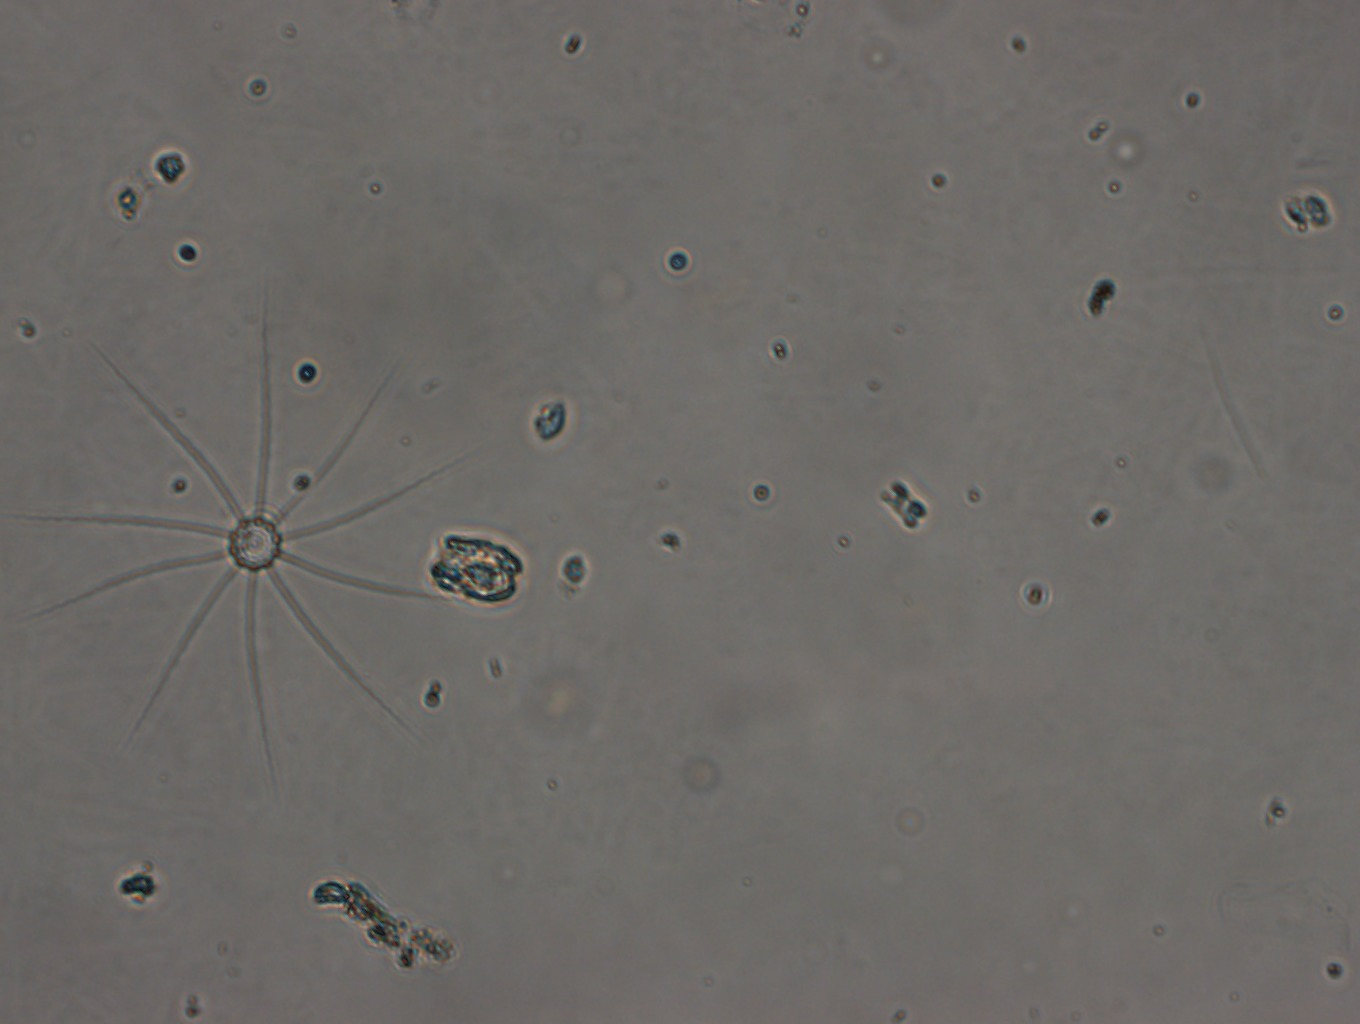bacteriastrum: (54, 314, 475, 760)
